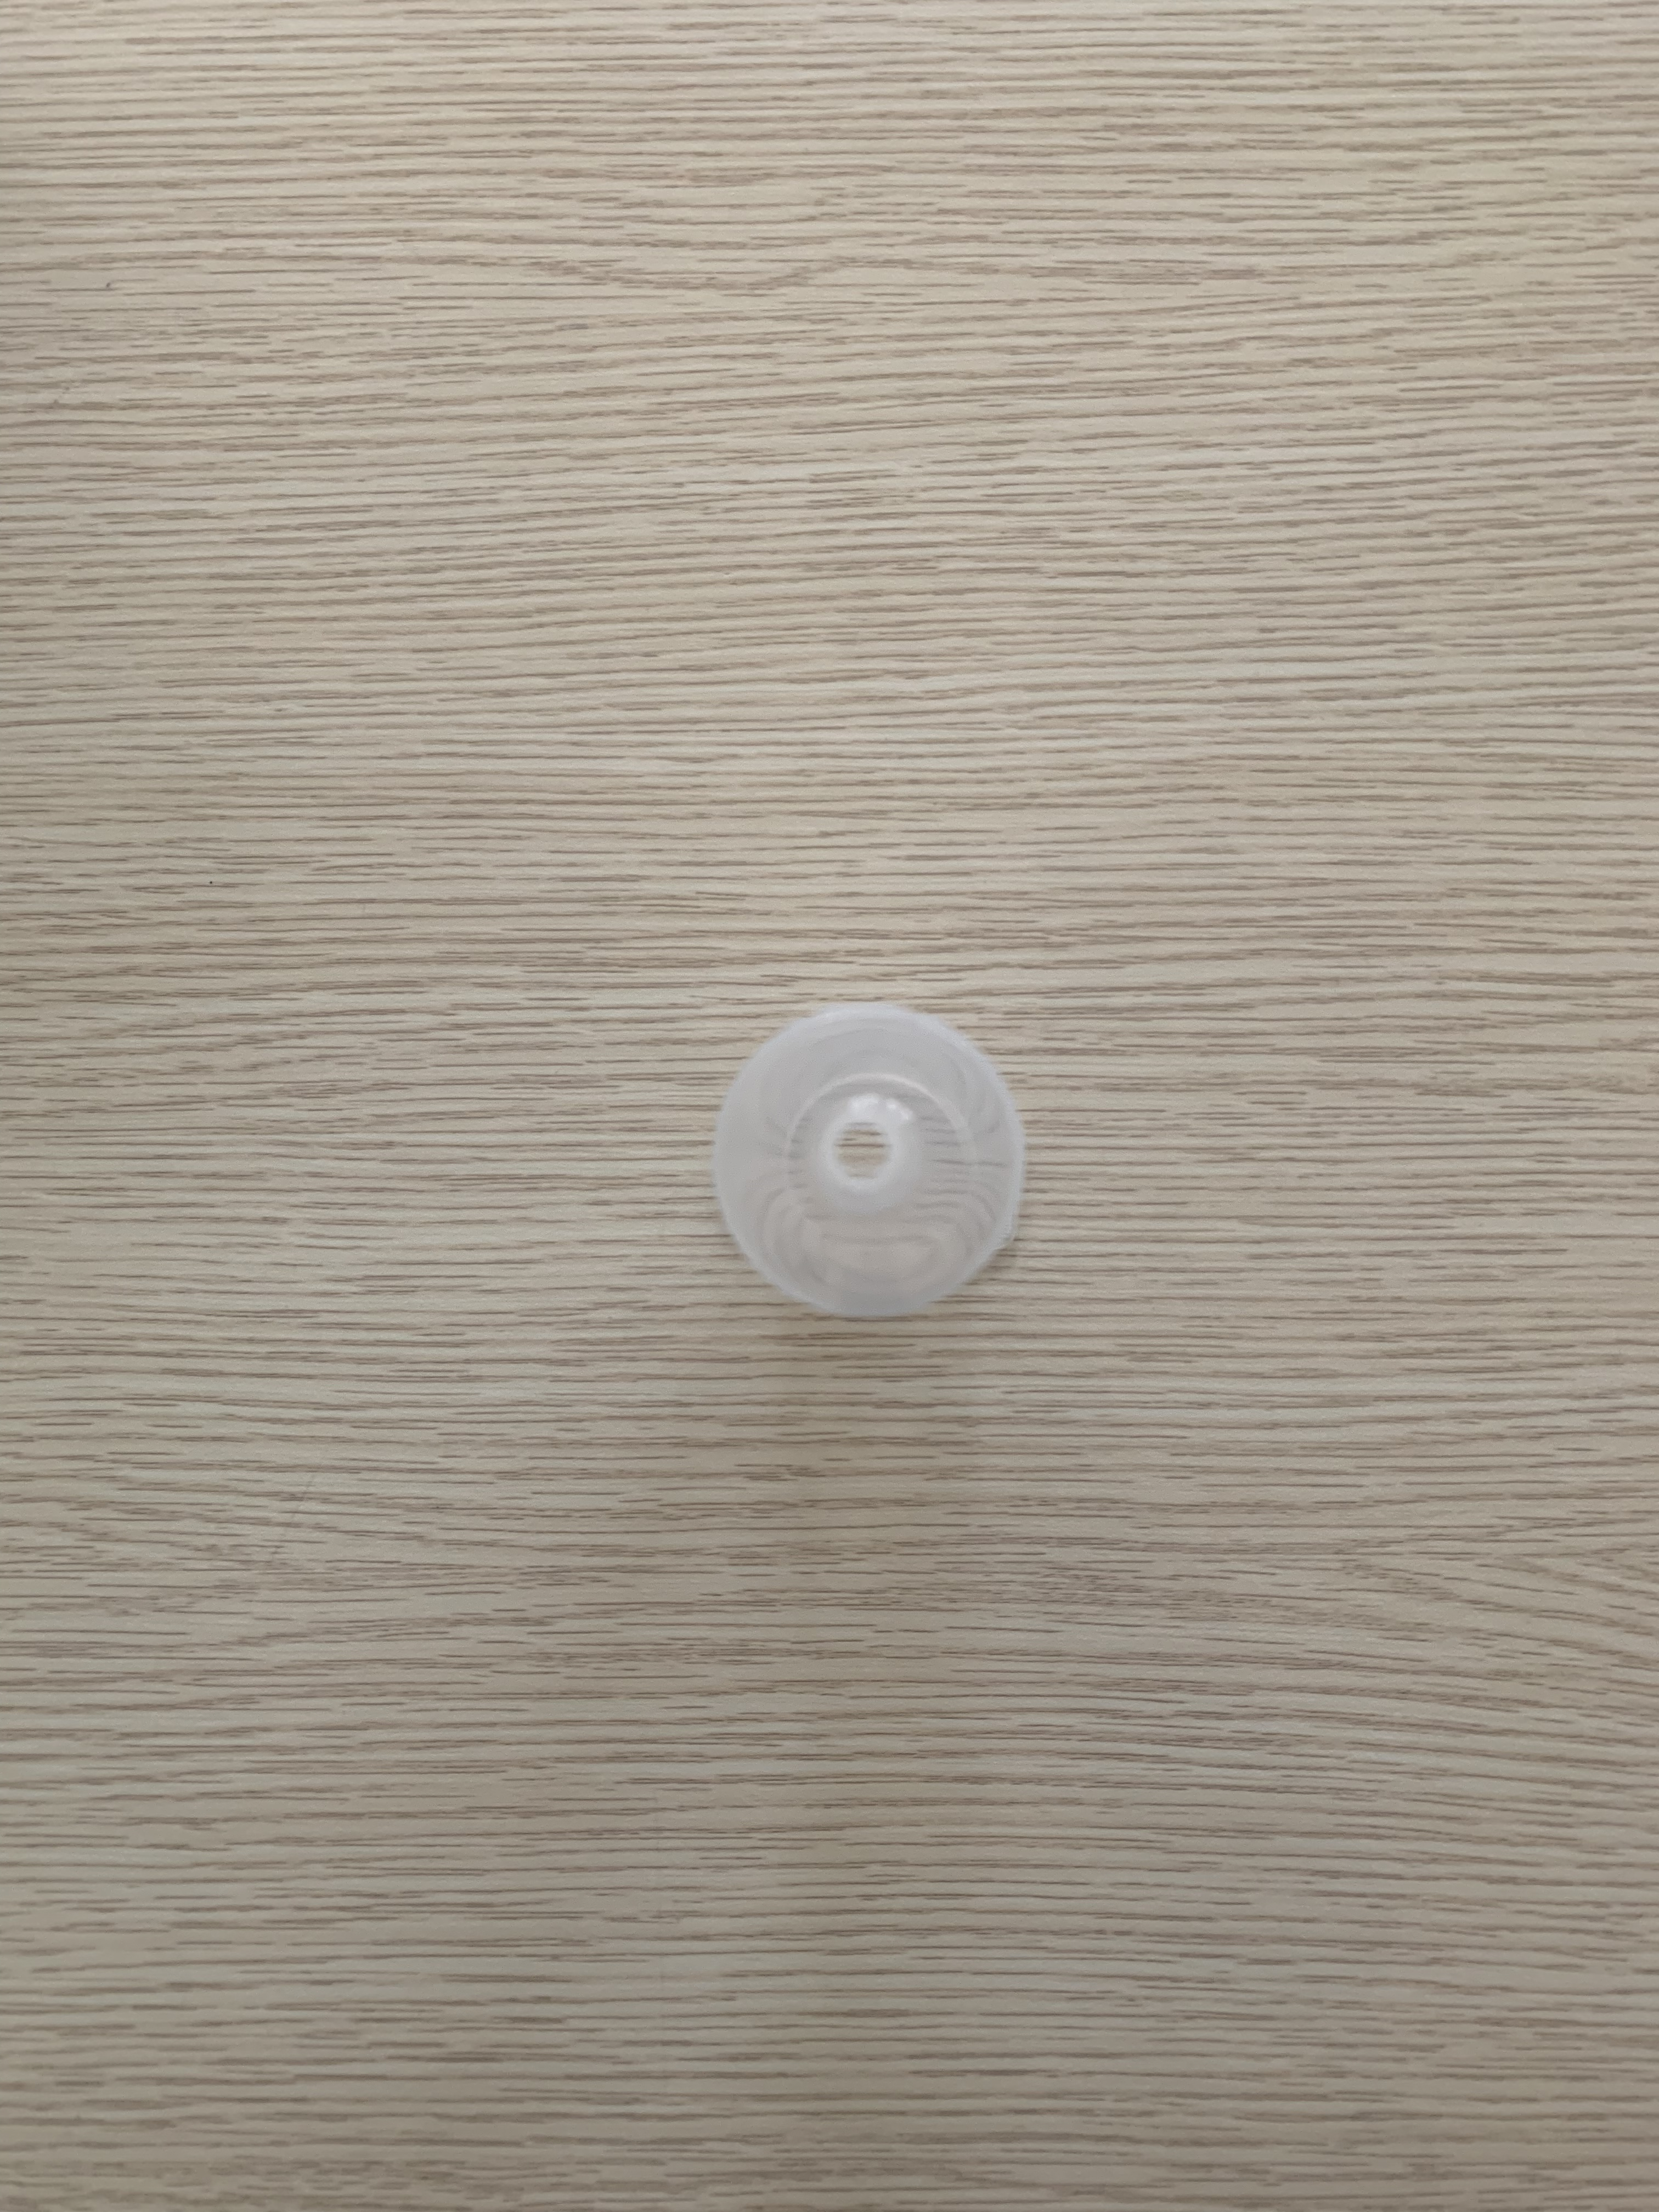syringe: (701, 1001, 1037, 1329)
